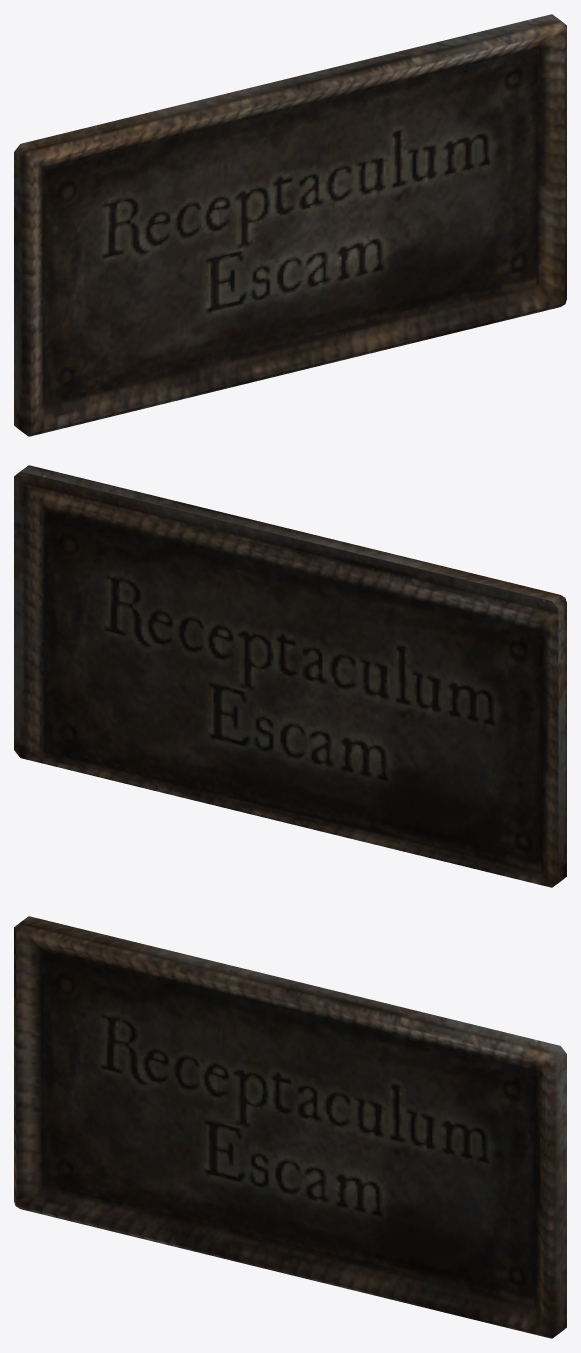
File: sign_food_storage.dae
3 views of the same model, one above another, from view 1: azimuth 30°, elevation 25°; view 2: azimuth 150°, elevation 25°; view 3: azimuth 330°, elevation 25° (orthographic).
Visible parts, largest first — view 1: Box02; view 2: Box02; view 3: Box02.
Boxes of the visible parts, x1,y1,x2,y2 form: Box02: [14, 14, 566, 436]; Box02: [14, 465, 566, 887]; Box02: [14, 916, 566, 1338].
Bounding box in the file's own units: 0.6037 × 0.0235 × 0.3038.
